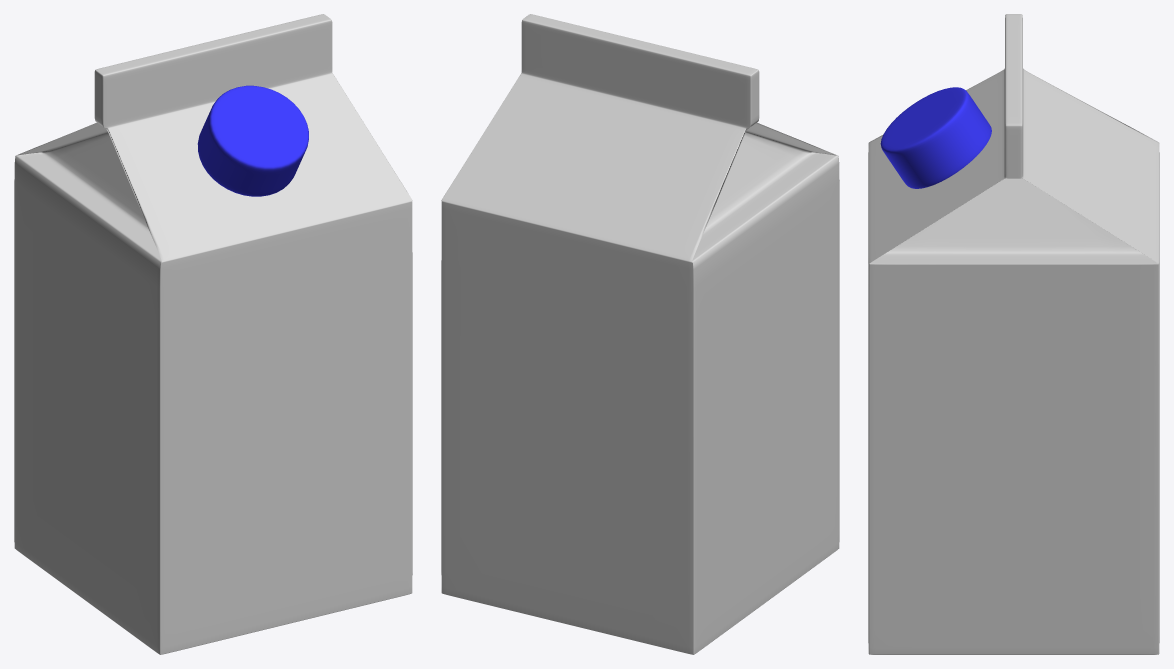
The model's file is milk_usethis.fbx.
The picture shows the model from 3 angles, left to right: view 1: azimuth 30°, elevation 25°; view 2: azimuth 150°, elevation 25°; view 3: azimuth 270°, elevation 25°; orthographic projection.
Parts seen in each view (by area): view 1: milk; view 2: milk; view 3: milk.
Boxes of the visible parts, bbox=[...] form: milk: bbox=[14, 14, 412, 654]; milk: bbox=[441, 14, 839, 654]; milk: bbox=[868, 14, 1159, 654].
Bounding box in the file's own units: 1.98 × 3.93 × 1.98.
